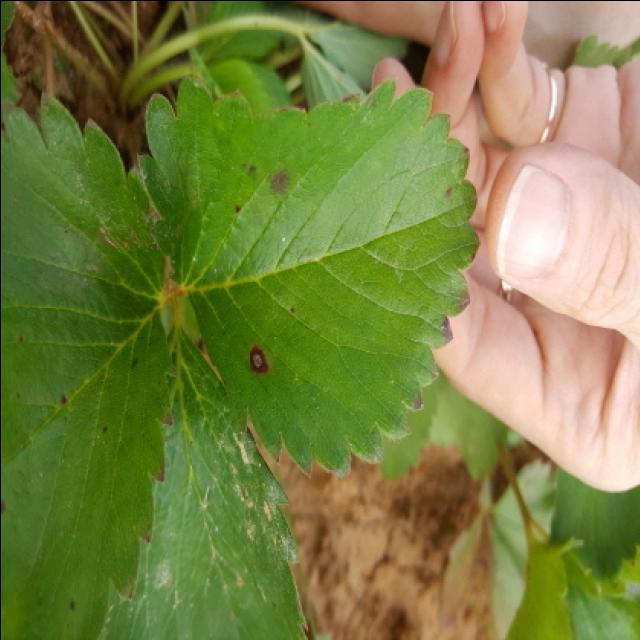Leaf Spot: (134, 77, 481, 480), (2, 89, 180, 640)
